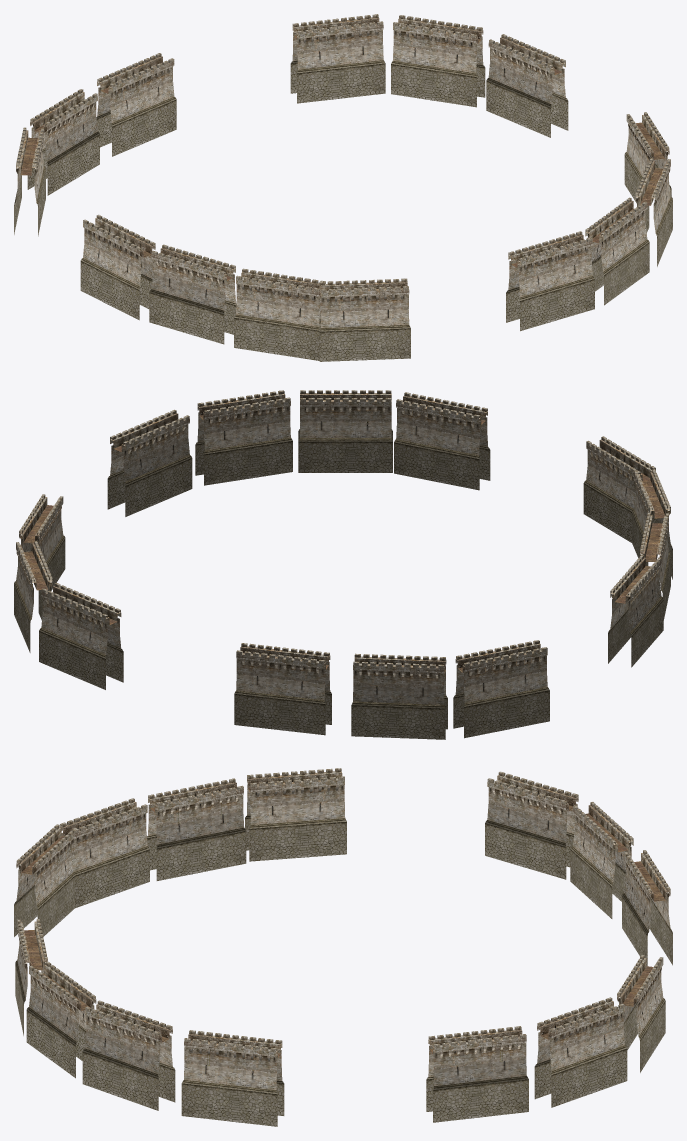
The model's file is campaign_curtainwall_hele.dae.
3 views of the same model, one above another, from view 1: azimuth 30°, elevation 25°; view 2: azimuth 150°, elevation 25°; view 3: azimuth 270°, elevation 25° (orthographic). The views are drawn at different scales.
Parts seen in each view (by area): view 1: rome_wall076; view 2: rome_wall076; view 3: rome_wall076.
Part boxes in pixels (<box>): rome_wall076: <box>14,14,672,361</box>; rome_wall076: <box>14,390,672,739</box>; rome_wall076: <box>14,768,672,1126</box>.
Bounding box in the file's own units: 43.55 × 5.47 × 42.8.
